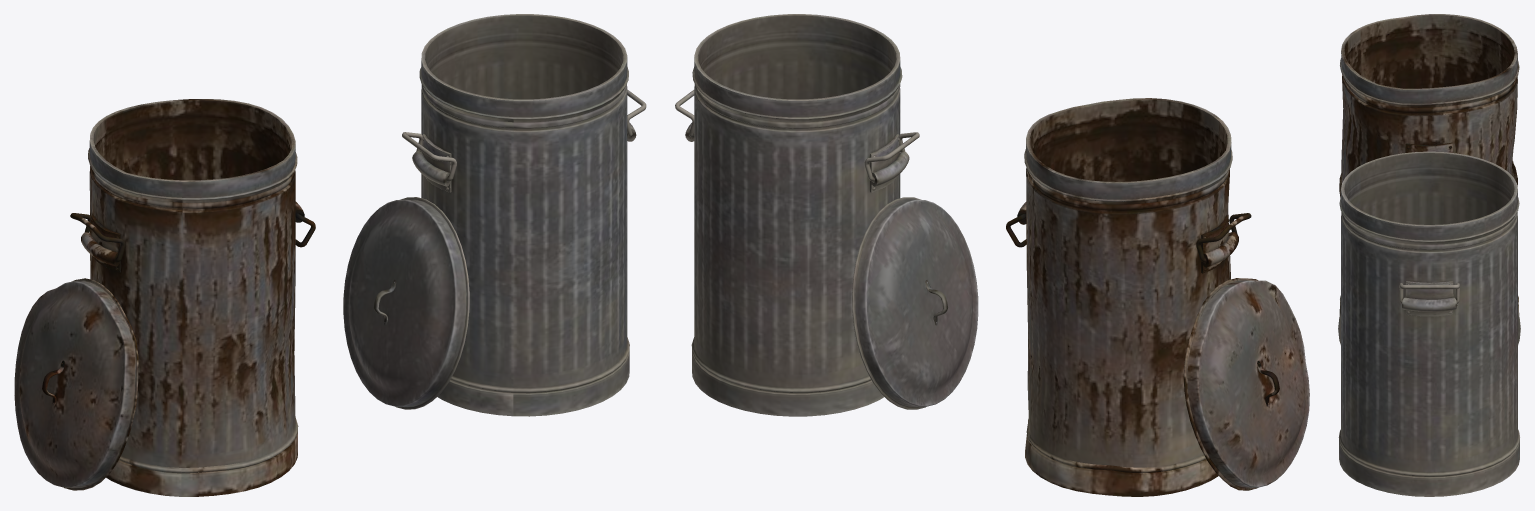
The model's file is metal_trash_can.glb.
3 views of the same model, side by side, from view 1: azimuth 30°, elevation 25°; view 2: azimuth 150°, elevation 25°; view 3: azimuth 270°, elevation 25° (orthographic). The views are drawn at different scales.
Visible parts, largest first — view 1: metal_trash_can, metal_trash_can_rust, metal_trash_can_lid, metal_trash_can_rust_lid; view 2: metal_trash_can, metal_trash_can_rust, metal_trash_can_lid, metal_trash_can_rust_lid; view 3: metal_trash_can, metal_trash_can_rust, metal_trash_can_handle_right.
Boxes of the visible parts, x1,y1,x2,y2 form: metal_trash_can: (412, 14, 636, 416); metal_trash_can_rust: (81, 99, 304, 496); metal_trash_can_lid: (343, 197, 469, 409); metal_trash_can_rust_lid: (14, 278, 138, 490); metal_trash_can: (685, 14, 909, 416); metal_trash_can_rust: (1017, 98, 1238, 496); metal_trash_can_lid: (852, 197, 978, 409); metal_trash_can_rust_lid: (1183, 278, 1309, 490); metal_trash_can: (1338, 151, 1519, 496); metal_trash_can_rust: (1339, 14, 1519, 315); metal_trash_can_handle_right: (1399, 283, 1459, 303).
Size of the model in its own units: 1.78 by 0.9062 by 0.5563.
3 materials, 3 textured.
